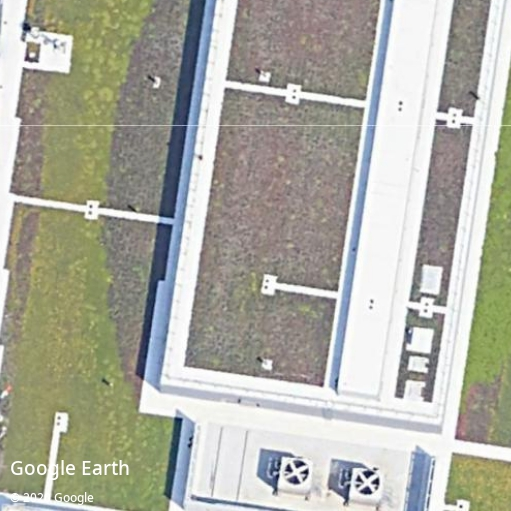Vent: (284, 460, 309, 485), (355, 470, 380, 495)
